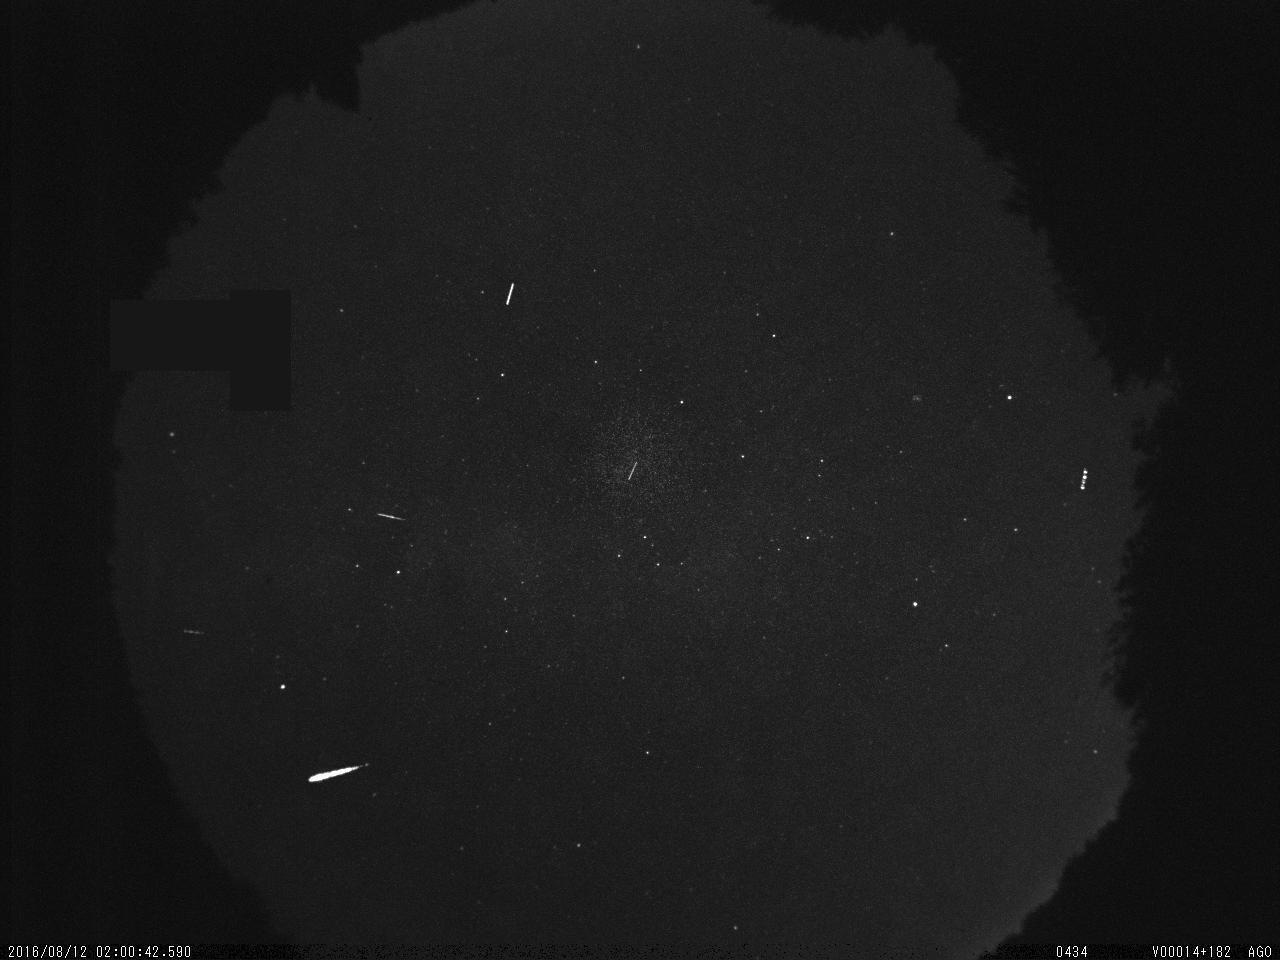meteor: (298, 751, 382, 794), (373, 506, 414, 528)
satelite: (172, 621, 215, 647), (1073, 463, 1097, 499), (498, 276, 522, 311), (620, 454, 648, 483)
